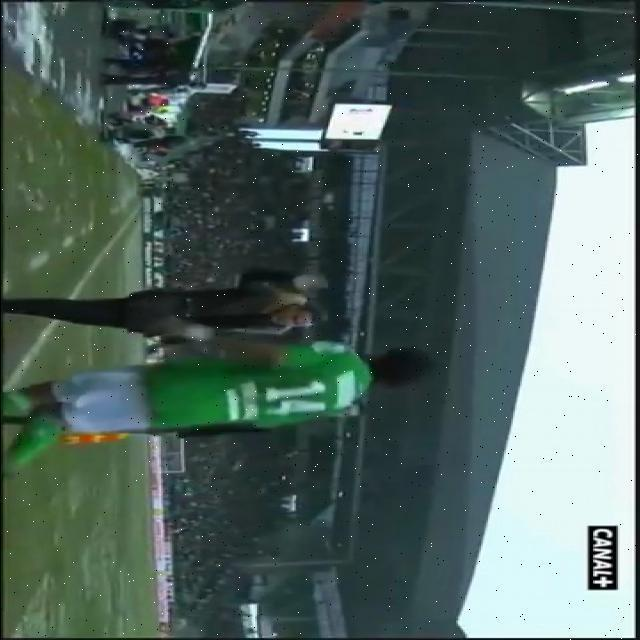player: (0, 331, 484, 453)
